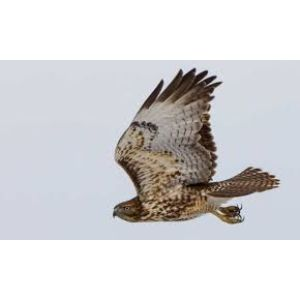hawk: (105, 66, 282, 230)
